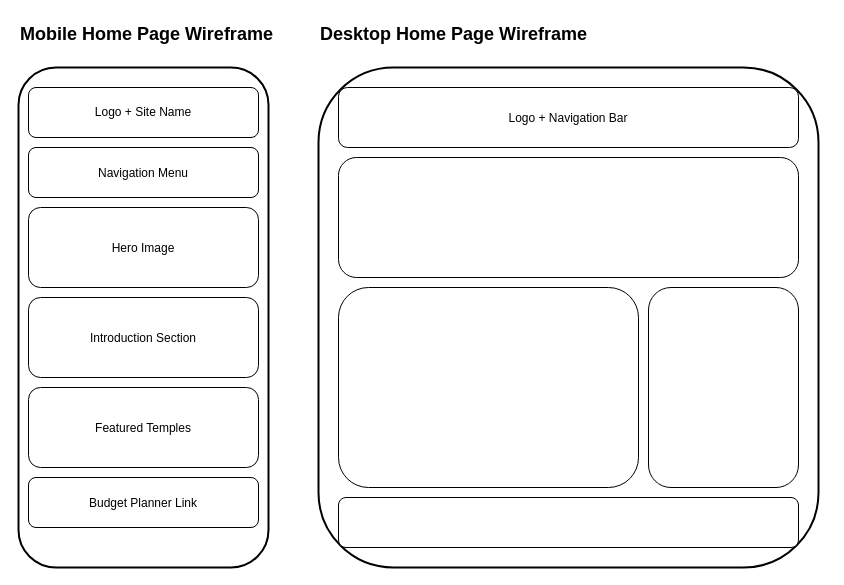
The diagram is 844 pixels wide and 585 high, and some of its shapes have lost their labels. The shapes that lost their labels are listed below. From the top down, each one's centre as x and y in pixels, then its label:
At pixel 568 217: "Hero Banner".
At pixel 488 387: "Temple Listings (Main Content)".
At pixel 723 387: "Sidebar (Budget Planner / Quick Links)".
At pixel 568 522: "Footer".
